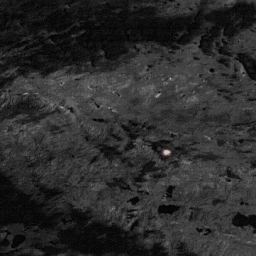Target: (162, 149, 170, 157)
